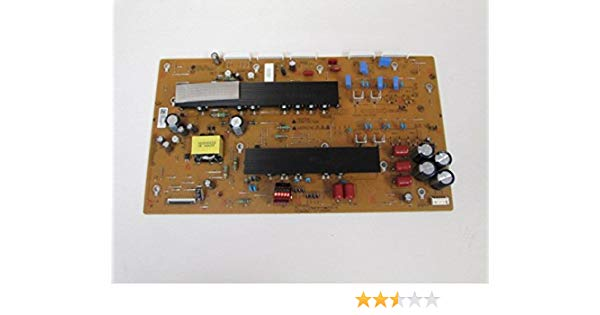capacitor: (432, 168, 454, 190), (411, 143, 435, 161), (411, 161, 435, 179), (229, 115, 247, 136), (434, 151, 454, 168), (164, 113, 181, 132), (211, 52, 221, 65), (196, 187, 206, 200), (204, 179, 215, 190), (186, 123, 198, 133), (162, 141, 172, 152), (177, 126, 187, 136), (288, 60, 297, 71), (405, 192, 413, 203), (157, 136, 163, 143)
resistor: (279, 124, 290, 130), (275, 134, 288, 139)
